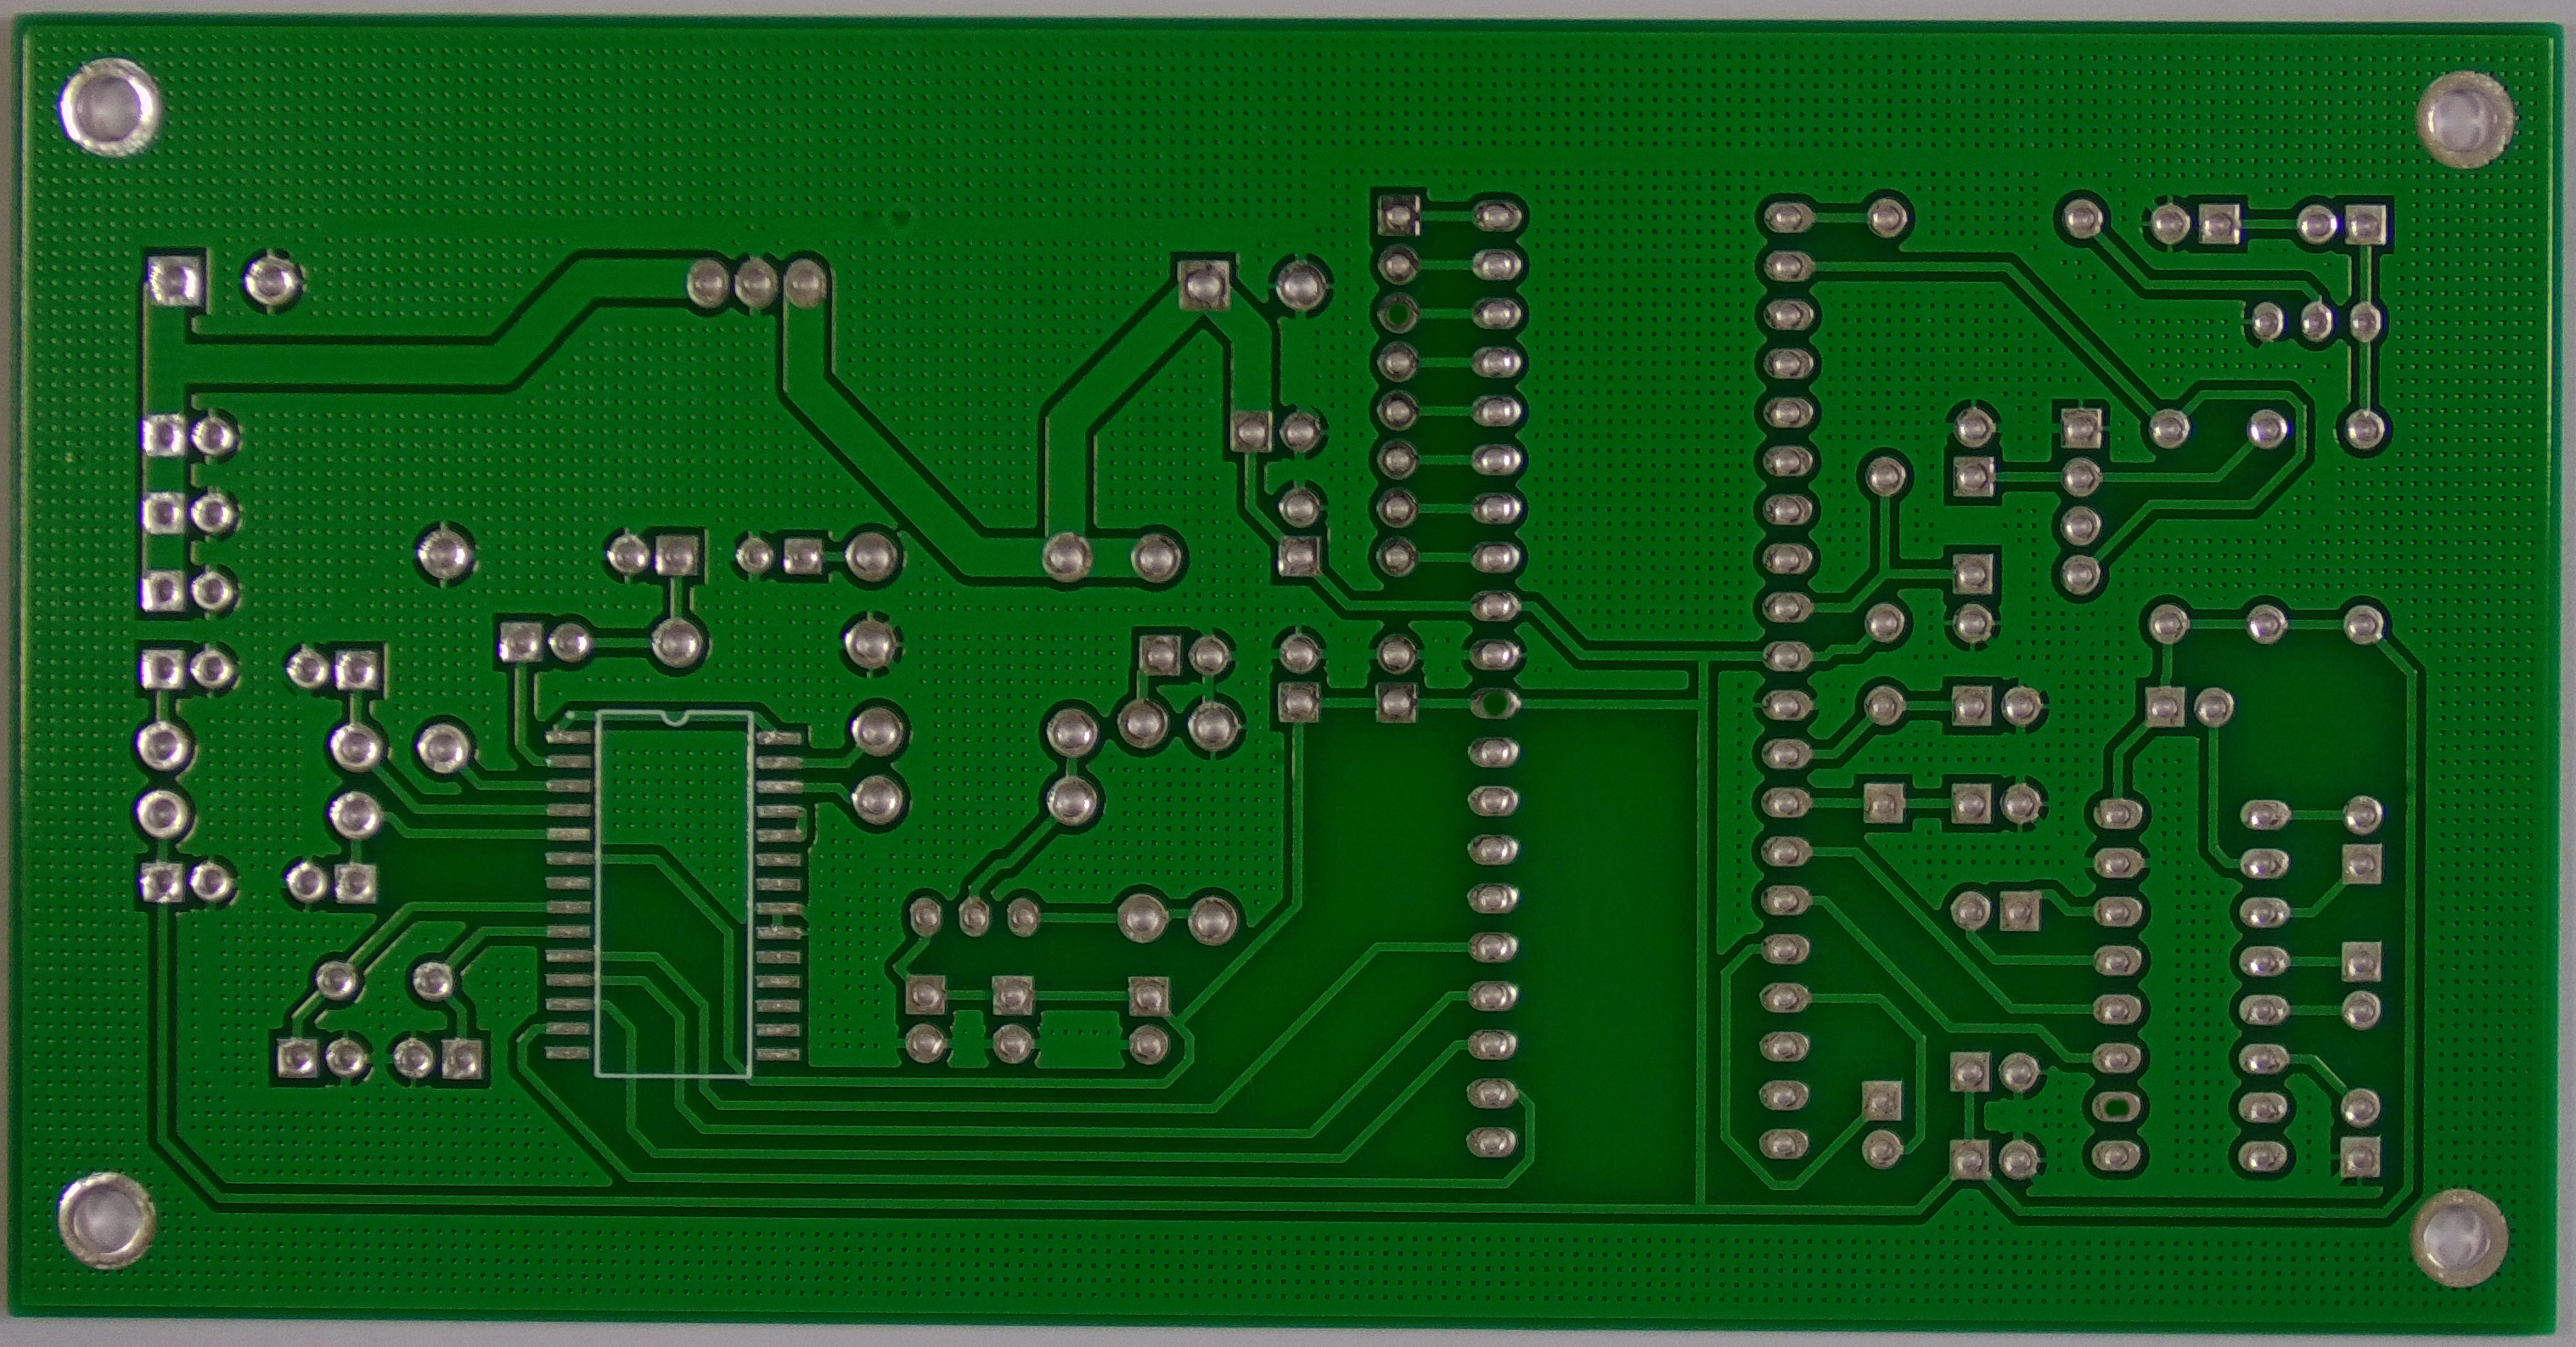missing_hole: (1465, 674, 1526, 725), (1370, 284, 1426, 336), (2088, 1082, 2148, 1129)
